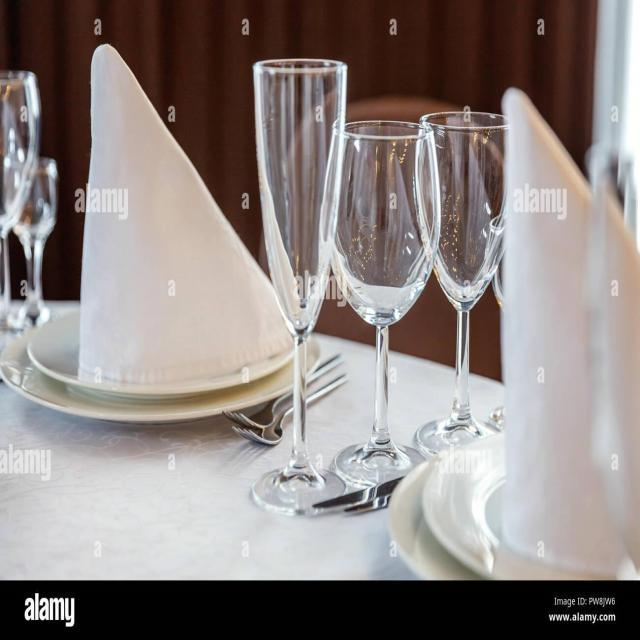glass: (326, 121, 430, 487)
